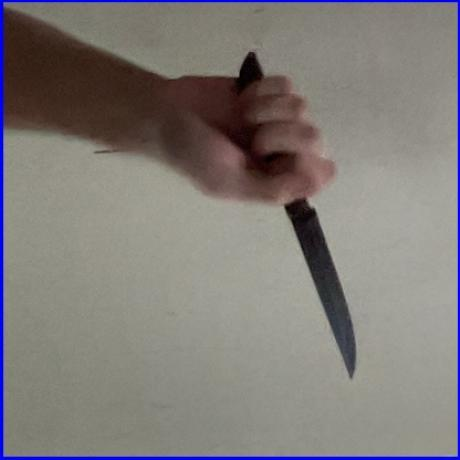1: (0, 0, 339, 210)
weapon: (236, 45, 360, 379)
